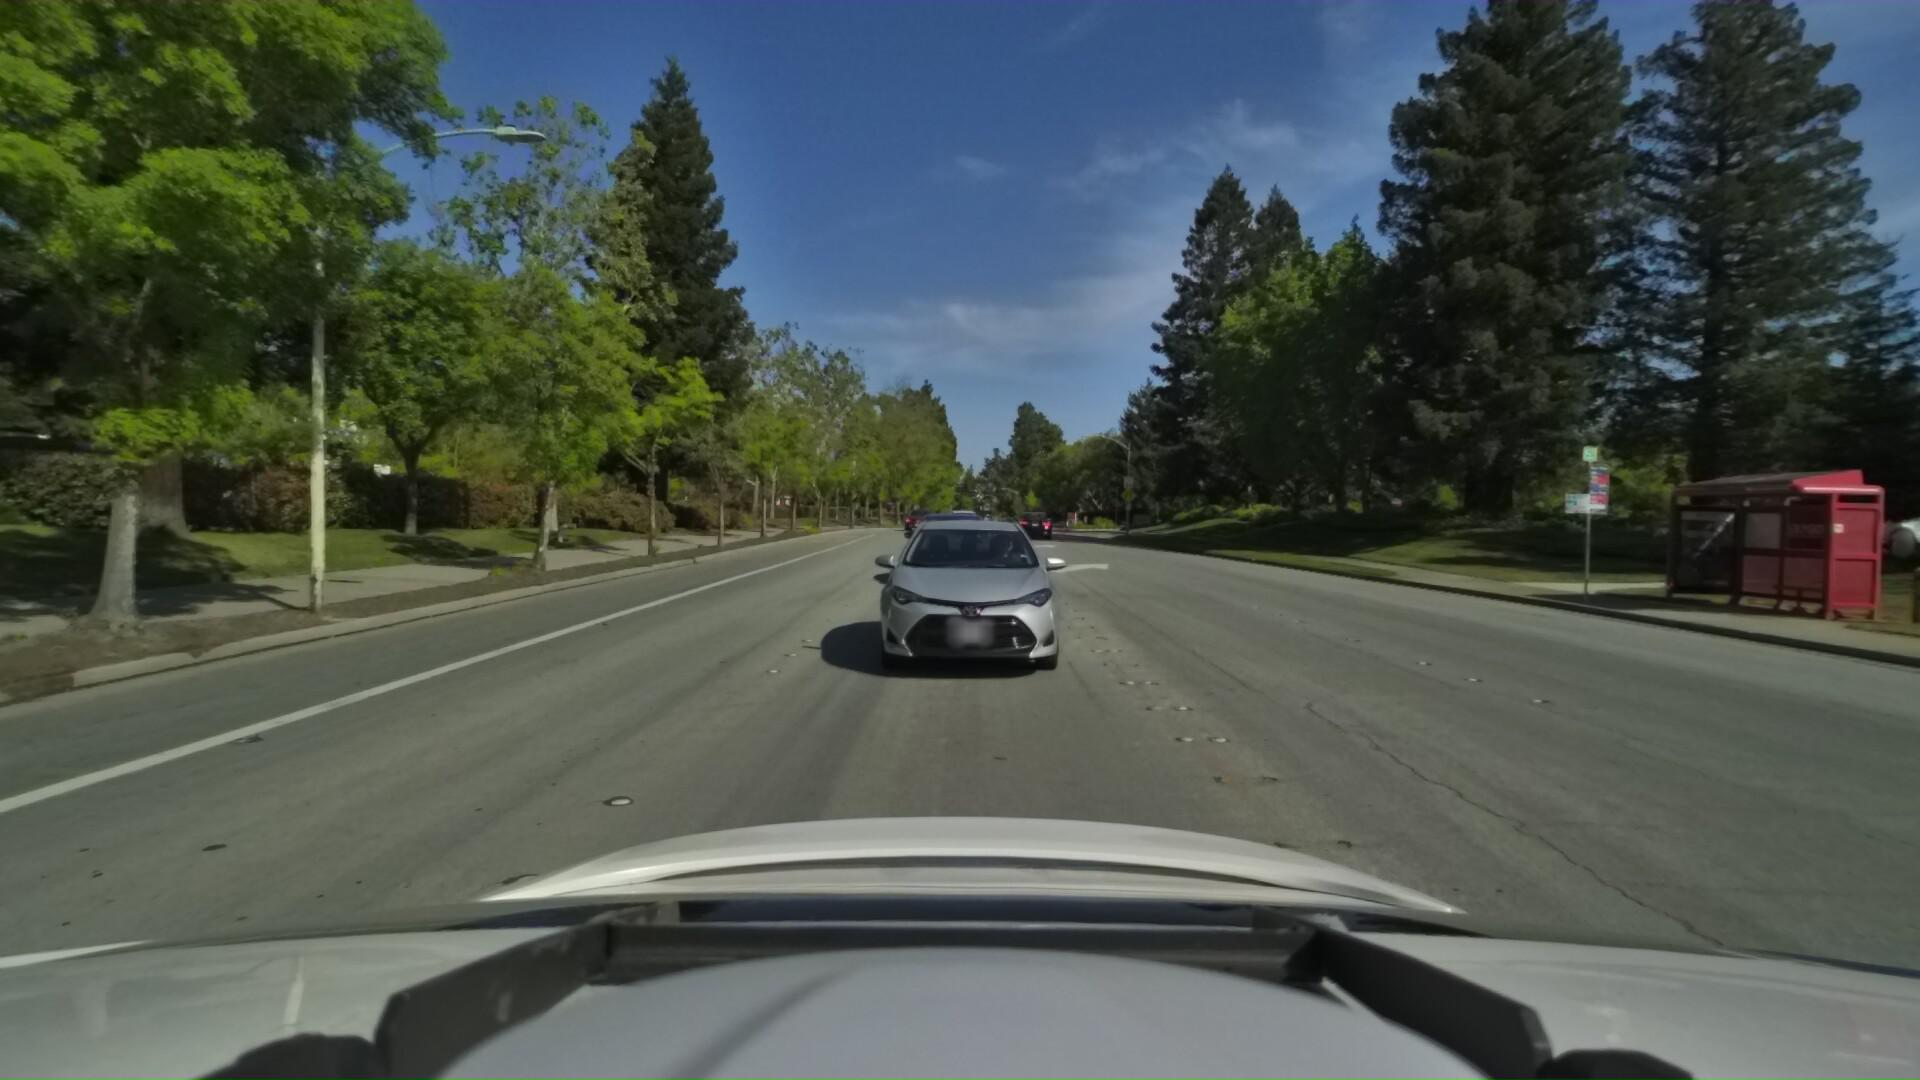car: (862, 502, 1073, 691), (1724, 487, 1920, 554), (891, 505, 989, 585), (1014, 508, 1056, 538), (949, 504, 982, 534), (899, 504, 931, 529)
